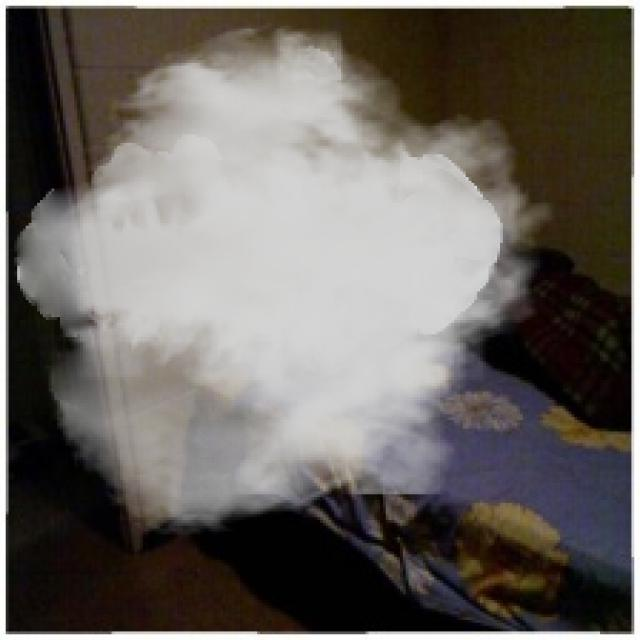smoke: (14, 20, 557, 540)
